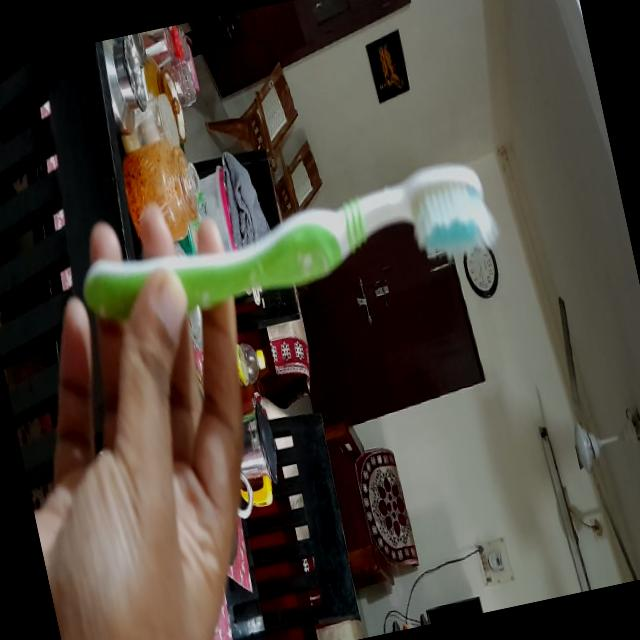Tooth_Brush - Non Recyclable: (55, 127, 532, 397)
